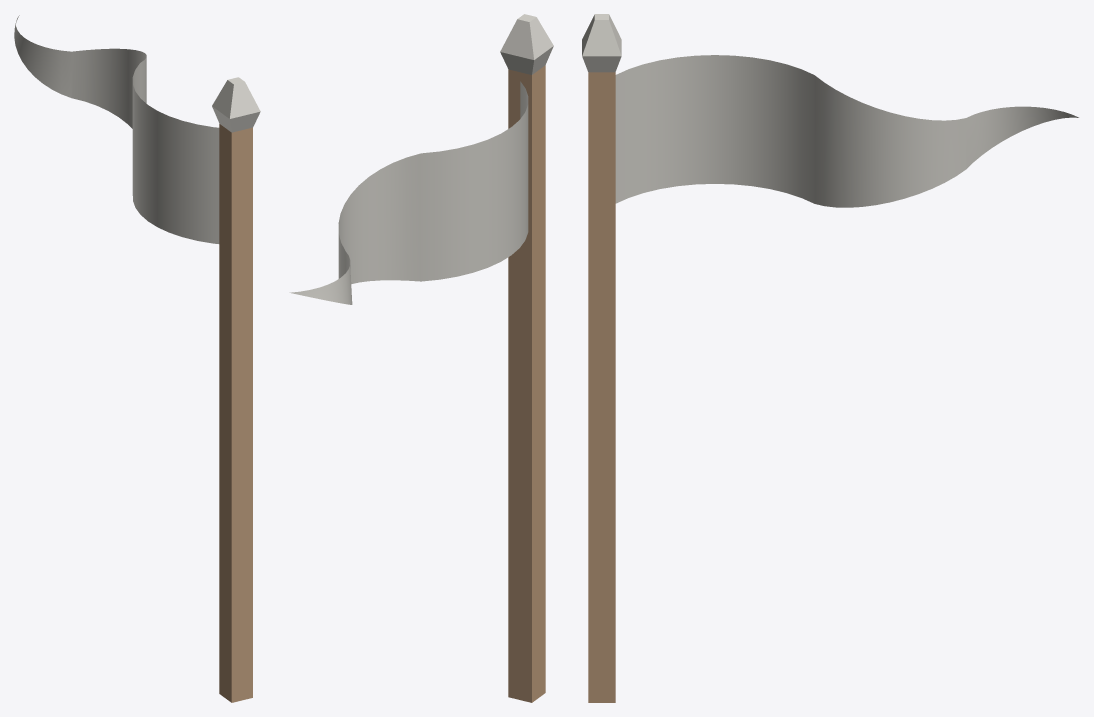
Rendered from flagWhite.fbx.
3 views of the same model, side by side, from view 1: azimuth 30°, elevation 25°; view 2: azimuth 150°, elevation 25°; view 3: azimuth 270°, elevation 25° (orthographic). The views are drawn at different scales.
Visible parts, largest first — view 1: flagWhite, flag 1; view 2: flag 1, flagWhite; view 3: flag 1, flagWhite.
Part boxes in pixels (left/top/right/bottom): flagWhite: left=212, top=77, right=260, bottom=702; flag 1: left=14, top=15, right=219, bottom=243; flag 1: left=289, top=81, right=528, bottom=304; flagWhite: left=500, top=14, right=553, bottom=702; flag 1: left=615, top=55, right=1078, bottom=207; flagWhite: left=582, top=14, right=621, bottom=702.
Bounding box in the file's own units: 0.8991 × 7.92 × 5.25.
